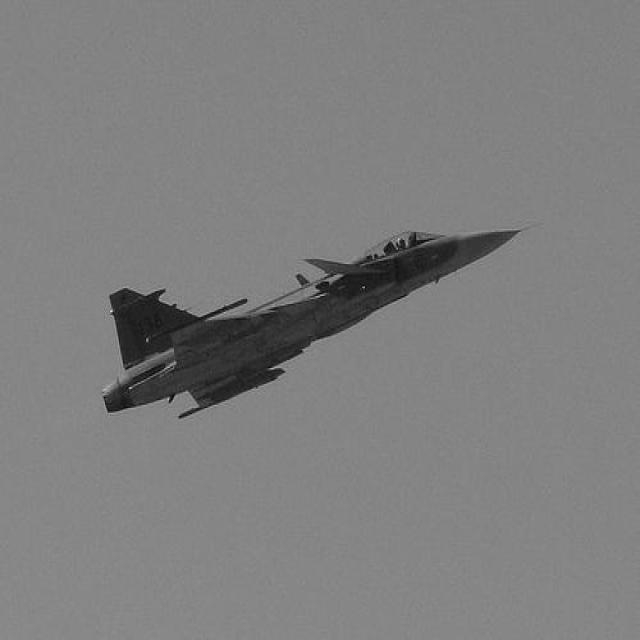aeroplane: (95, 218, 532, 422)
